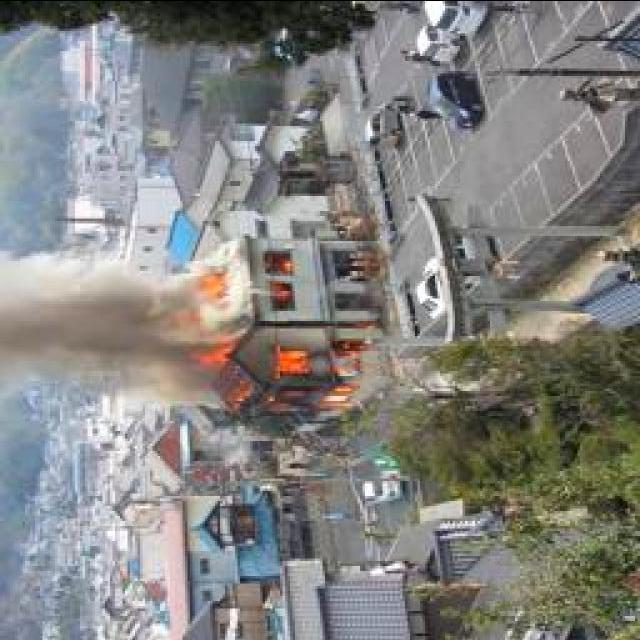Fire: (209, 328, 364, 418)
